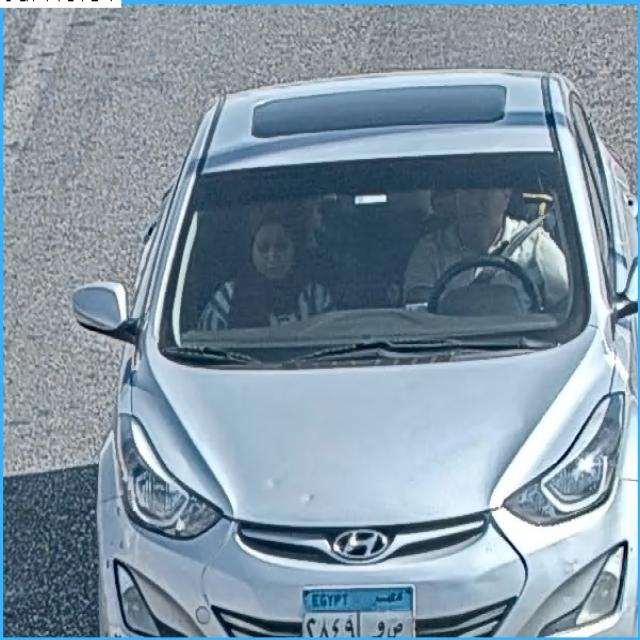windshield: (152, 174, 580, 342)
